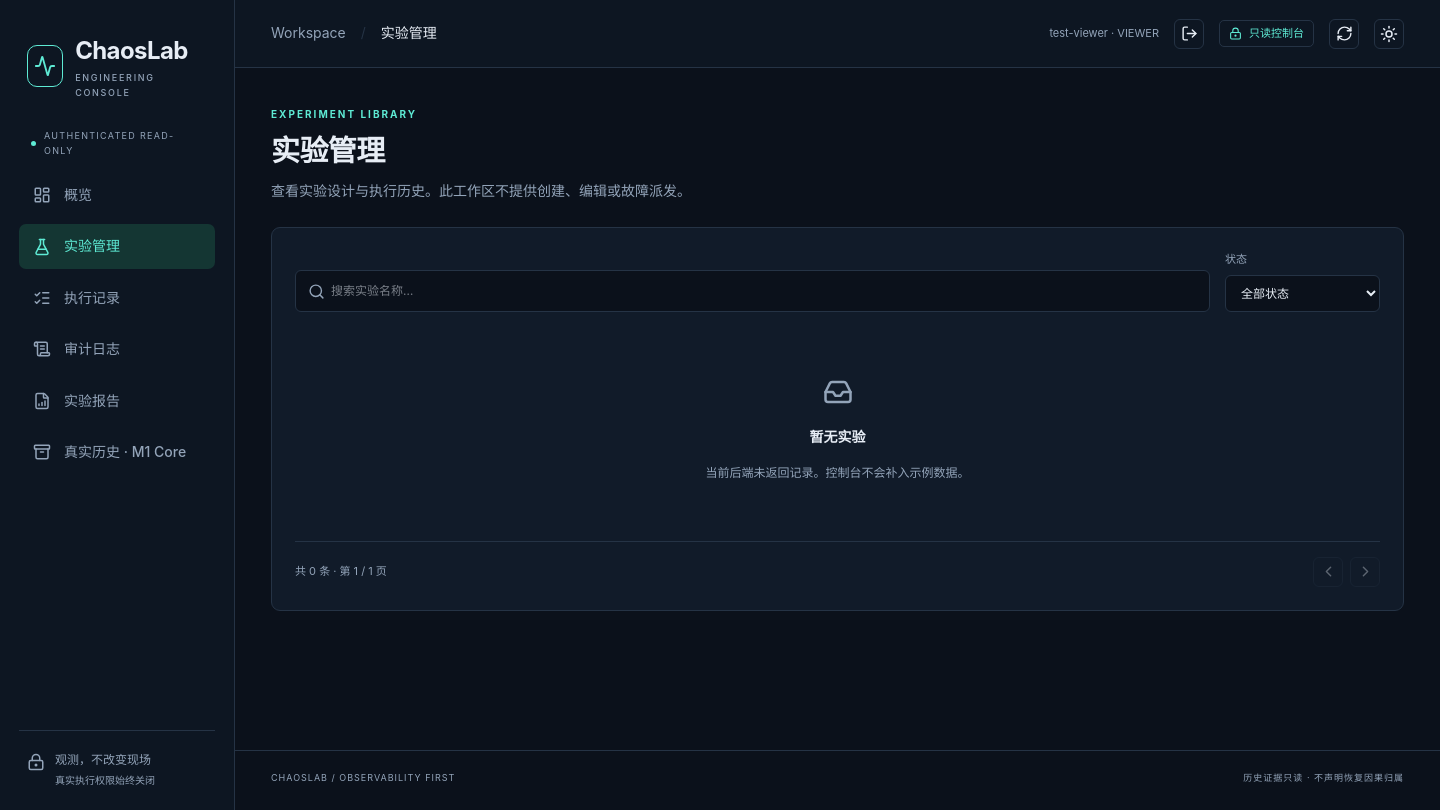
Scenario: session UI and narrow auth transport › logout invalidates UI identity and clears all previous user cache
Expected: the heading "暂无实验" is shown, top-left (810, 426), bottom-right (866, 449)
Click the button named "退出登录" at (1189, 34), box top-left (1174, 18), bottom-right (1204, 48)
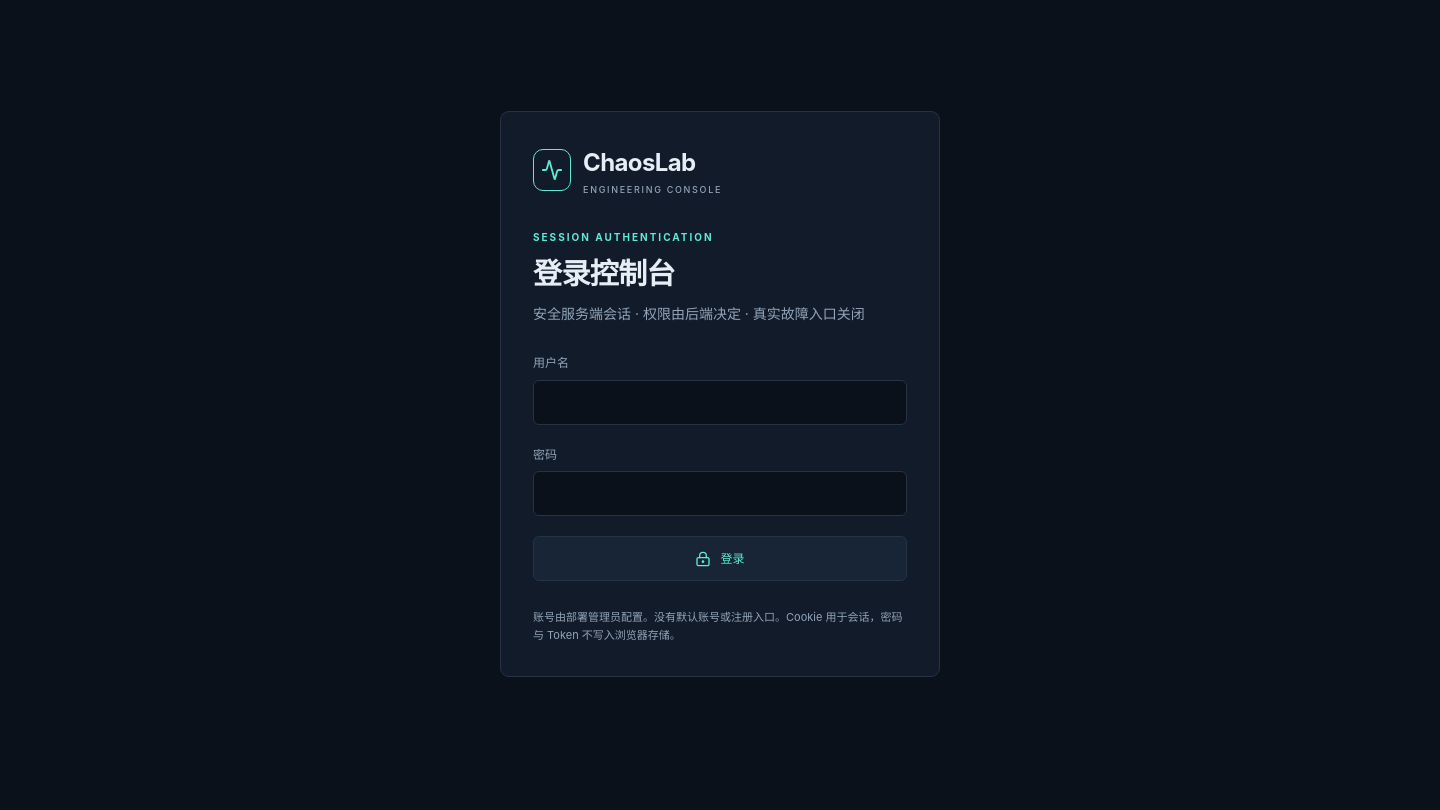
Expected: the heading "登录控制台" is shown, top-left (533, 256), bottom-right (675, 291)
